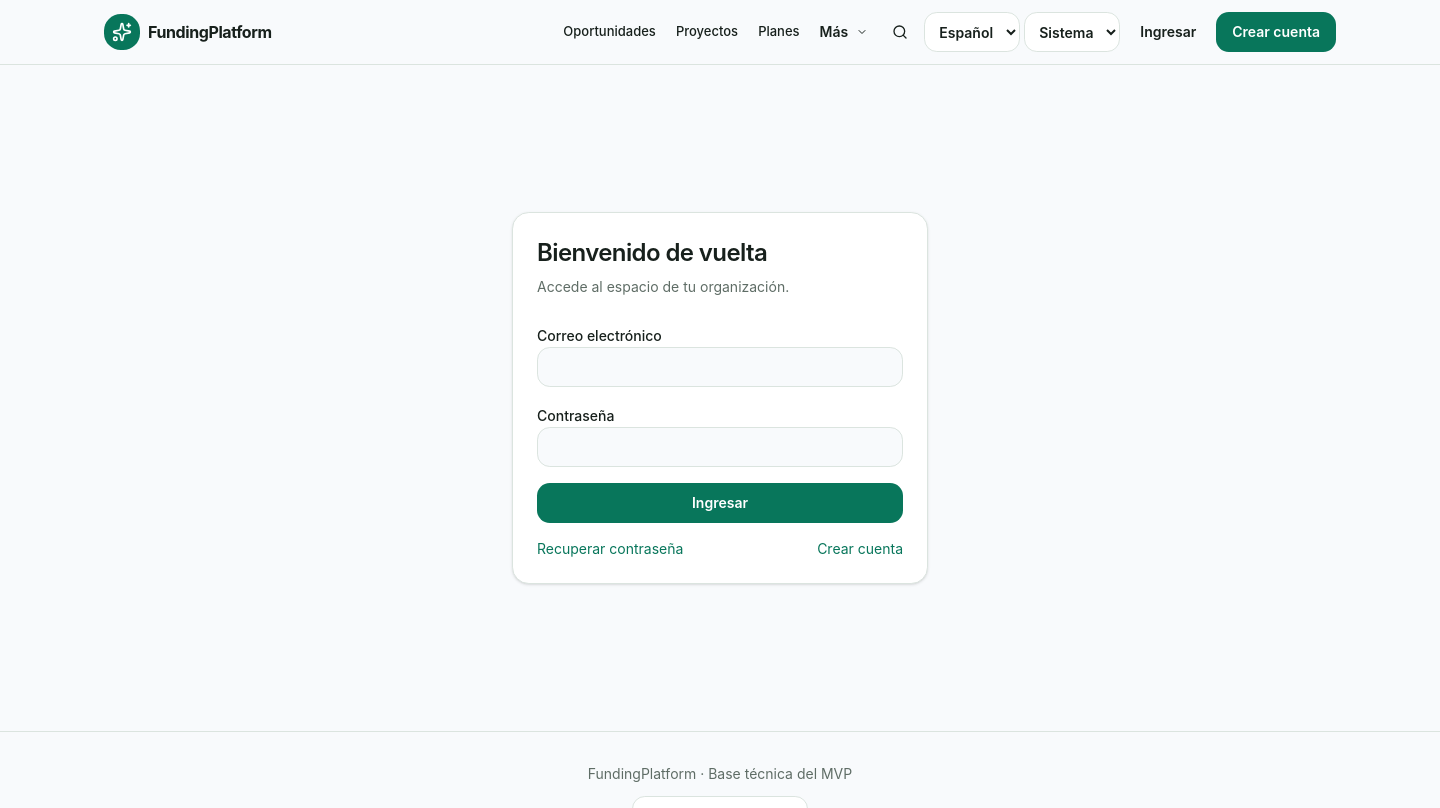
Scenario: aplicación › valida el formulario de acceso con React Hook Form y Zod
Click the button "Ingresar": (720, 503) x1=537 y1=483 x2=903 y2=523
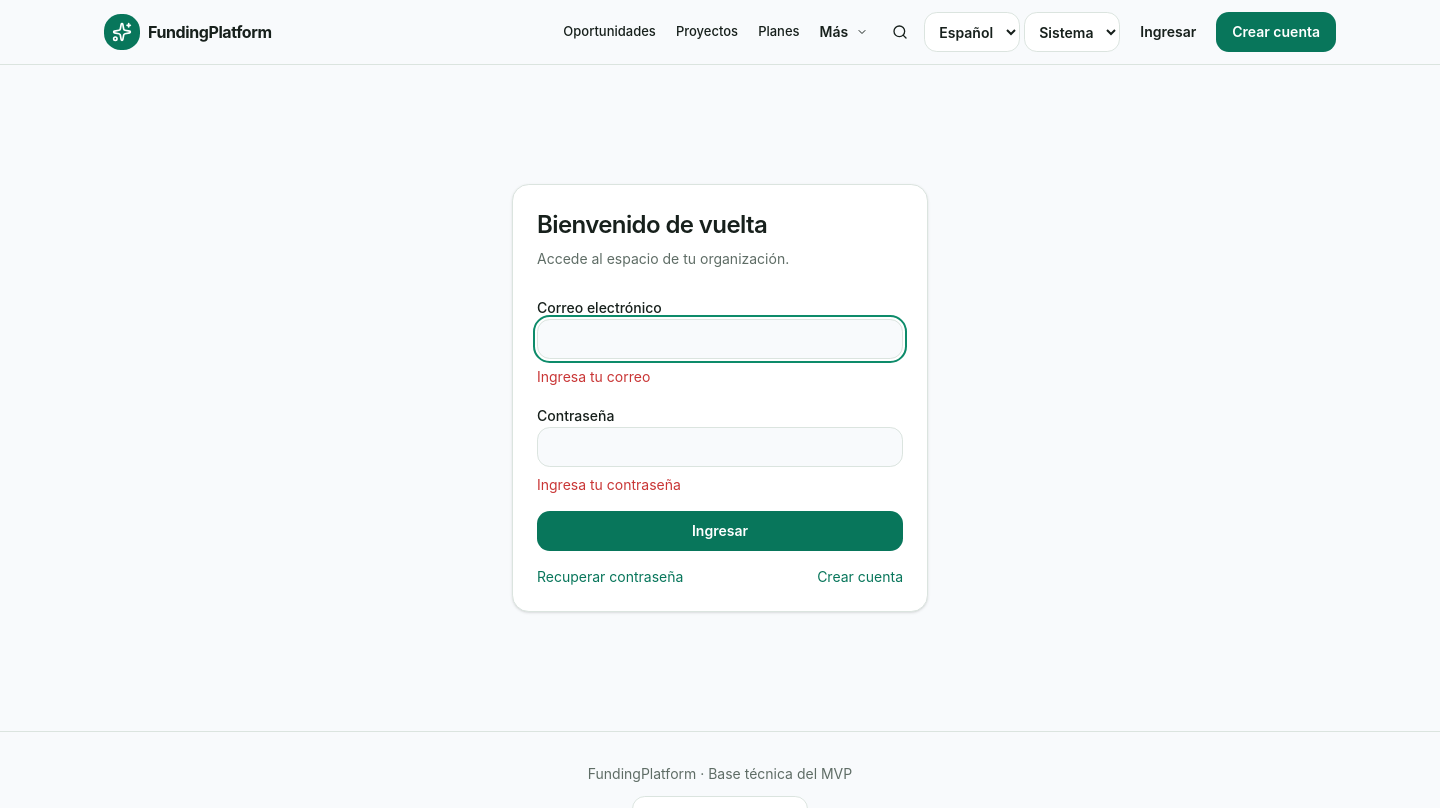
Check: the text "Ingresa tu correo" is shown, box x1=537 y1=368 x2=650 y2=385
Check: the text "Ingresa tu contraseña" is shown, box x1=537 y1=476 x2=681 y2=493
